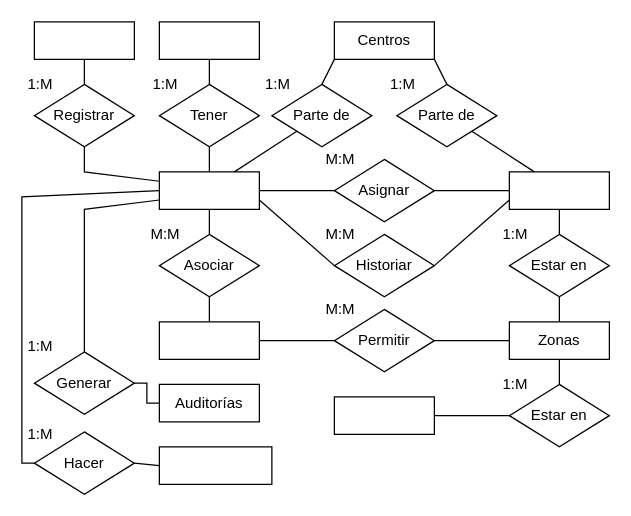
The diagram is 631 pixels wide and 516 high, and some of its shapes have lost their labels. The shapes that lost their labels are listed below. From the top down, each one's centre as x and y in pixels, then its label:
point (83, 40): Credenciales
point (208, 40): Rols
point (208, 190): Usuarios
point (558, 190): Salones
point (208, 340): Grupos
point (383, 415): Sedes
point (215, 465): Observaciónes
